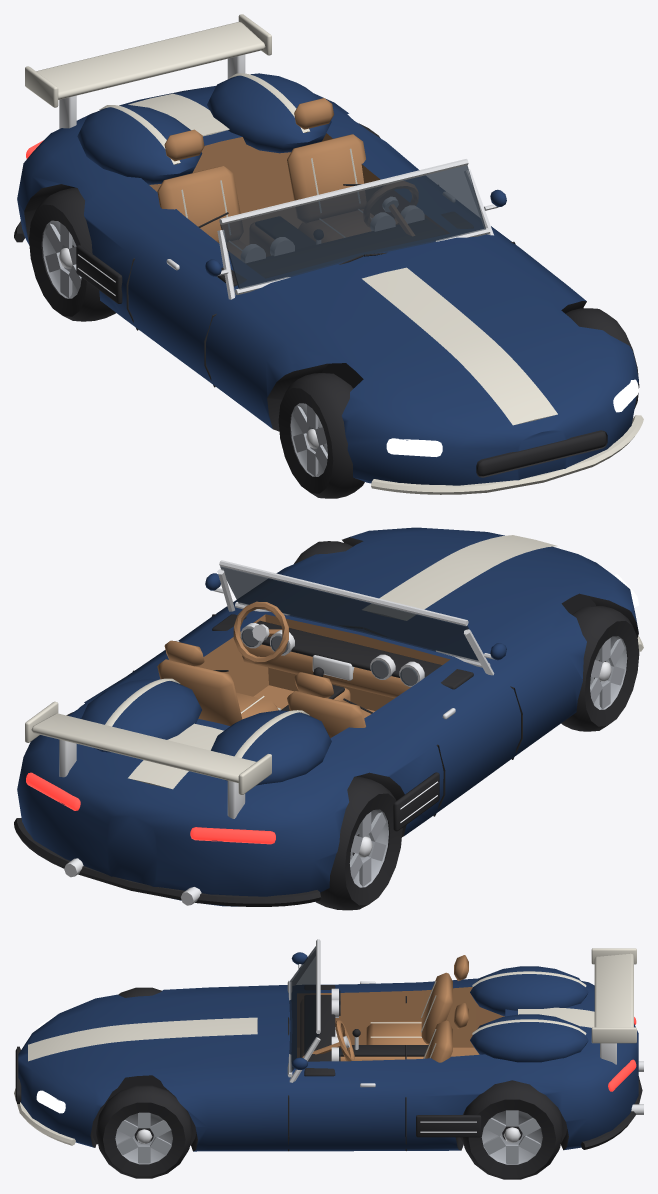
File: esportivo.glb
The picture shows the model from 3 angles, top to bottom: view 1: azimuth 30°, elevation 25°; view 2: azimuth 150°, elevation 25°; view 3: azimuth 270°, elevation 25°; orthographic projection. The views are drawn at different scales.
Visible parts, largest first — view 1: body, wheel_FR_mesh, wheel_RR_mesh, wheel_FL_mesh; view 2: body, wheel_RR_mesh, wheel_FR_mesh, wheel_FL_mesh; view 3: body, wheel_RL_mesh, wheel_FL_mesh.
Part boxes in pixels (x1,y1,x2,y2): body: (14, 14, 643, 494); wheel_FR_mesh: (278, 373, 364, 498); wheel_RR_mesh: (29, 187, 115, 321); wheel_FL_mesh: (565, 308, 639, 408); body: (14, 527, 643, 906); wheel_RR_mesh: (315, 776, 402, 910); wheel_FR_mesh: (561, 606, 639, 731); wheel_FL_mesh: (294, 541, 352, 563); body: (14, 939, 643, 1151); wheel_RL_mesh: (462, 1080, 563, 1179); wheel_FL_mesh: (96, 1085, 192, 1178).
Size of the model in its own units: 2 by 1.11 by 4.45.
